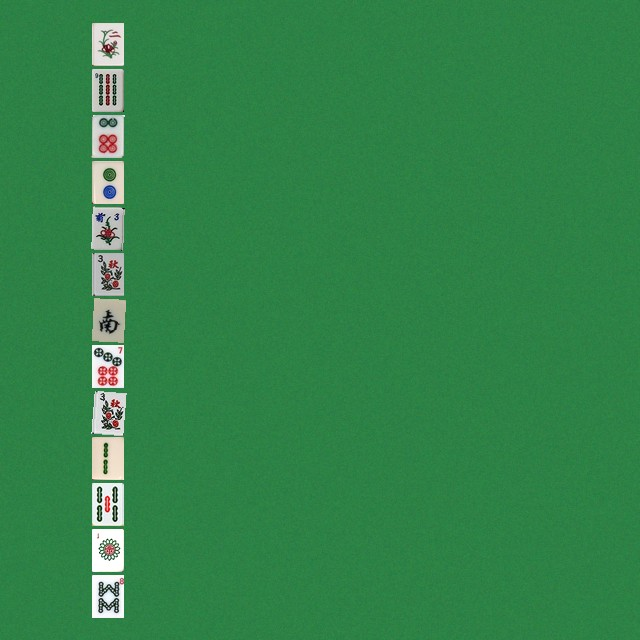tile: (91, 22, 123, 65), (91, 68, 123, 111), (91, 114, 123, 157), (91, 160, 123, 203), (91, 206, 123, 249), (91, 252, 123, 295), (91, 298, 123, 341), (91, 344, 123, 387), (91, 390, 123, 433), (91, 436, 123, 479), (91, 482, 123, 525), (91, 528, 123, 571), (91, 574, 123, 617)
